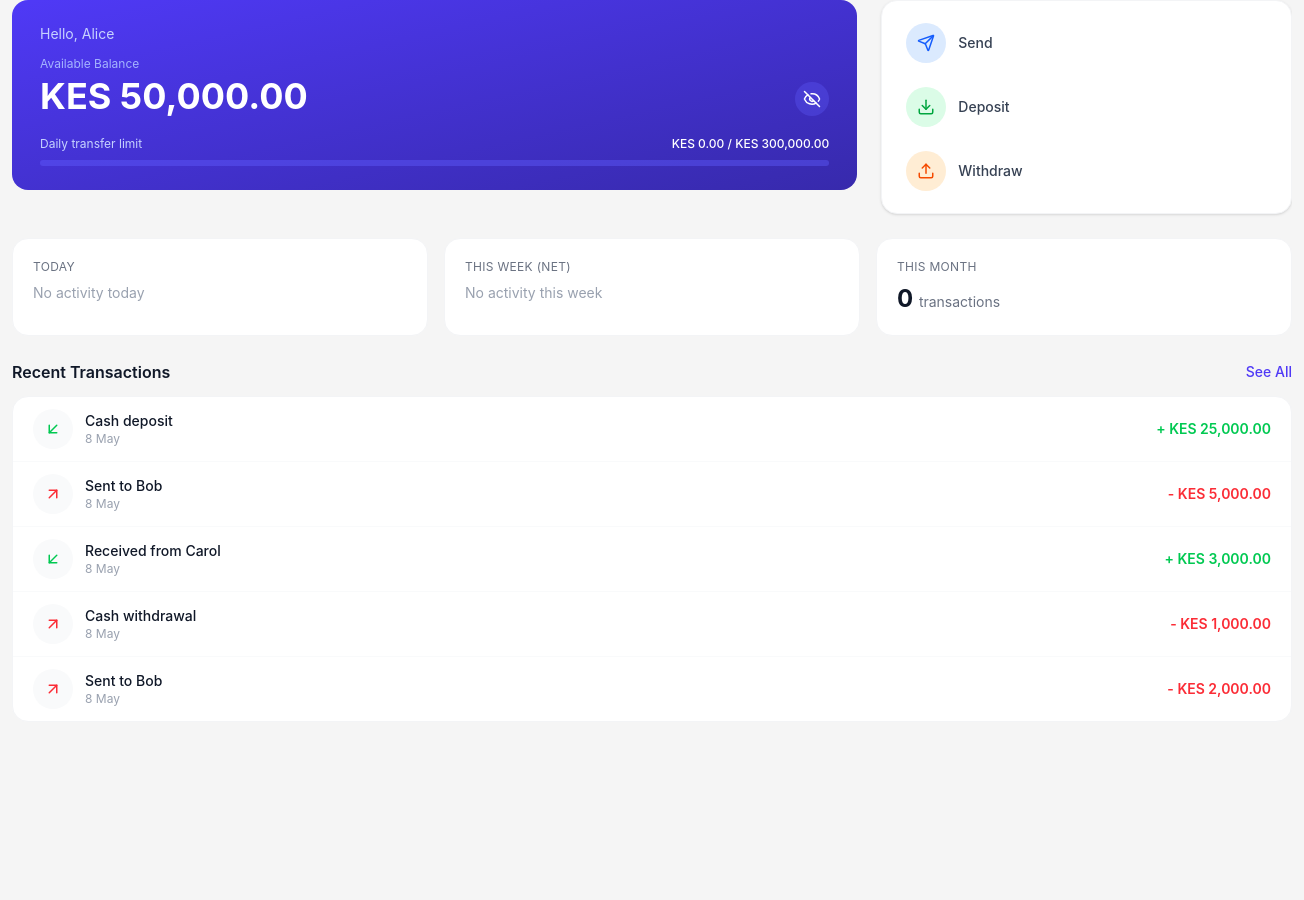
it: HomePage › toggles the visible balance when the eye button is tapped
The width and height of the screenshot is (1304, 900).
Expected: the text "KES 50,000.00" is shown, [40,76,308,116]
Click the button named "Hide balance". click: (812, 99)
box: [795,82,829,116]
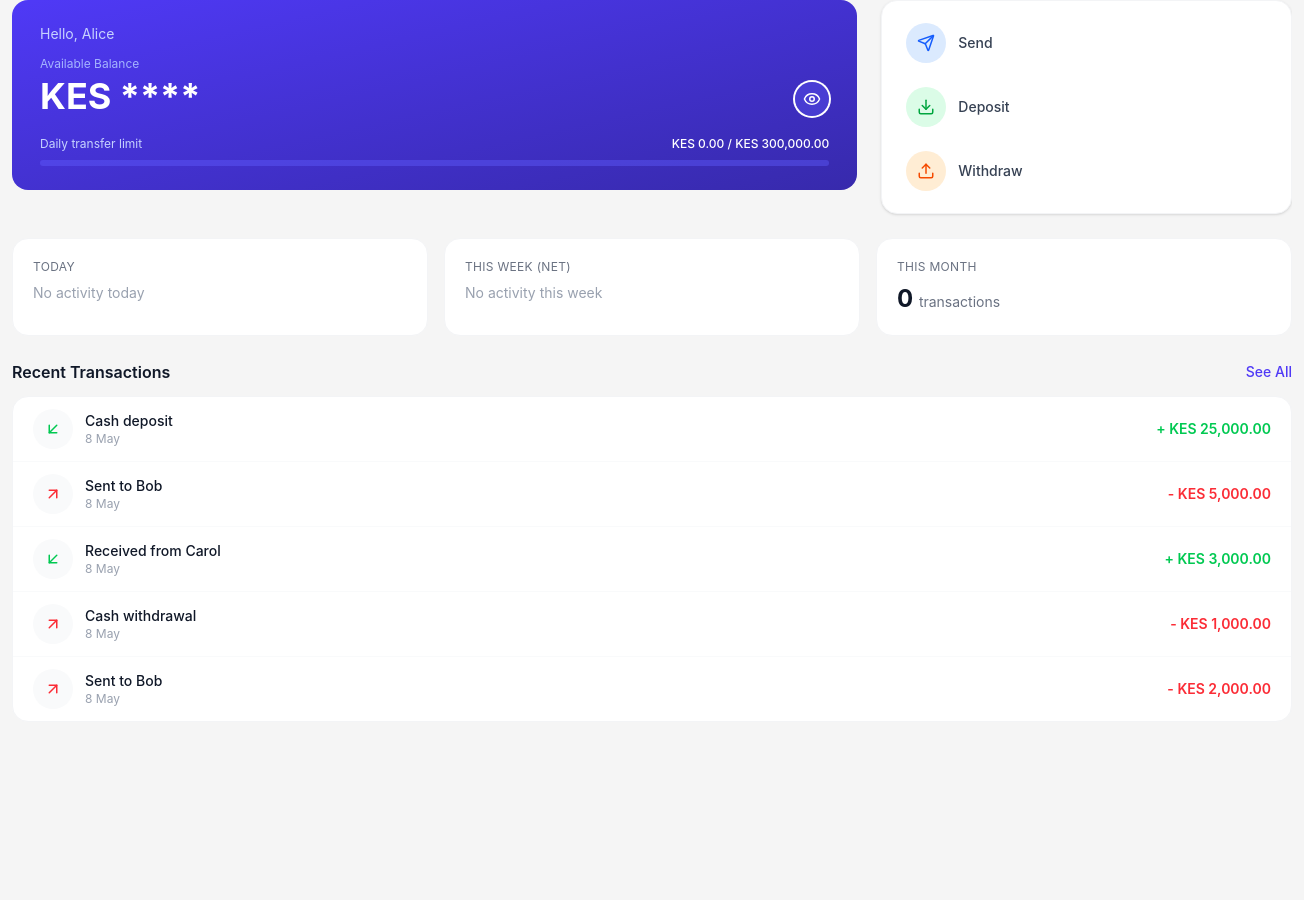
Now the text "KES ****" is shown, box [40,76,200,116]
Click the button named "Show balance". click: (812, 99)
box: [795,82,829,116]
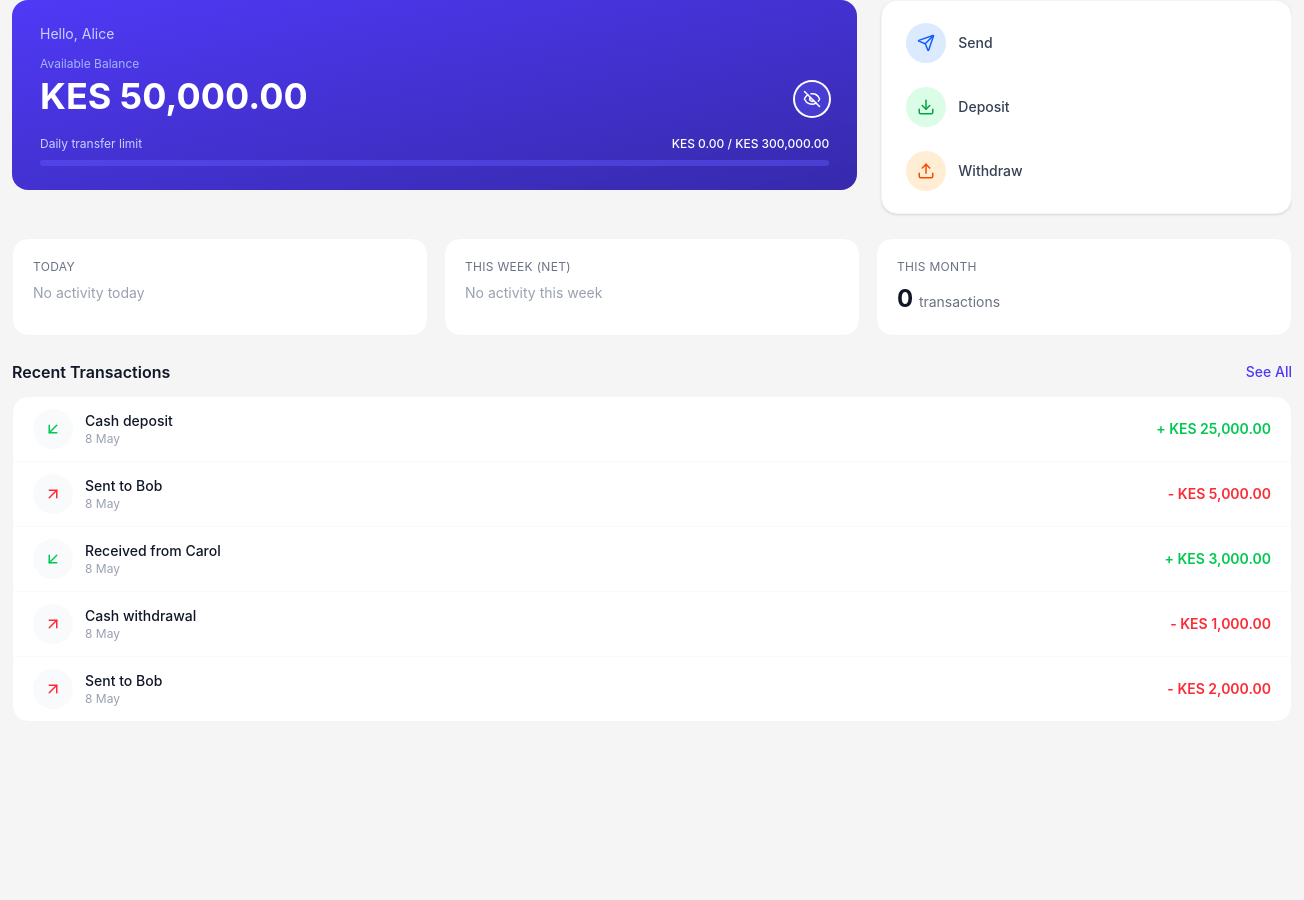
Now the text "KES 50,000.00" is shown, box [40,76,308,116]
